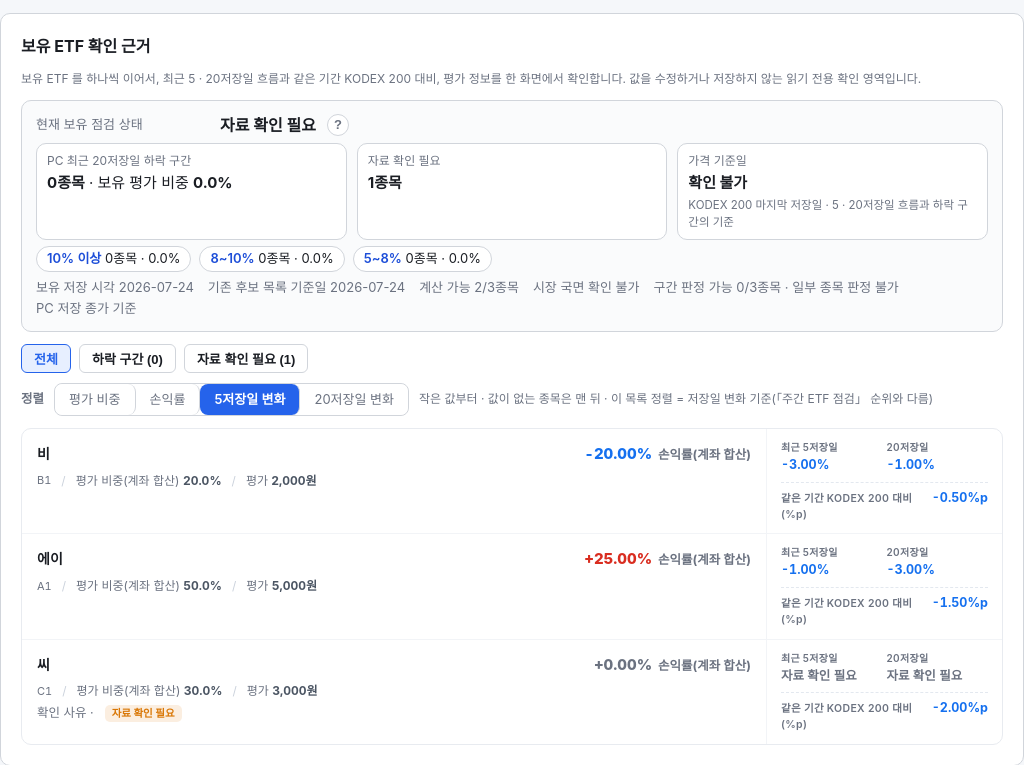
Test case: 확인 근거 — 사용자 선택 정렬 · 자료 확인 안내 · 전체 ETF NAV 이동 (POC5-UI-02) › 판정 Q54 — 상세에 [전체 ETF NAV·괴리율 보기] 이동 버튼이 없다(전체 표 = 「데이터 상태」) · NAV 묶음은 있다
This screenshot has width=1024, height=765.
Step 1. Click the button with aria-label "에이 상세 보기" → (618, 559), box [22,534,1002,639]
(page scrolled)
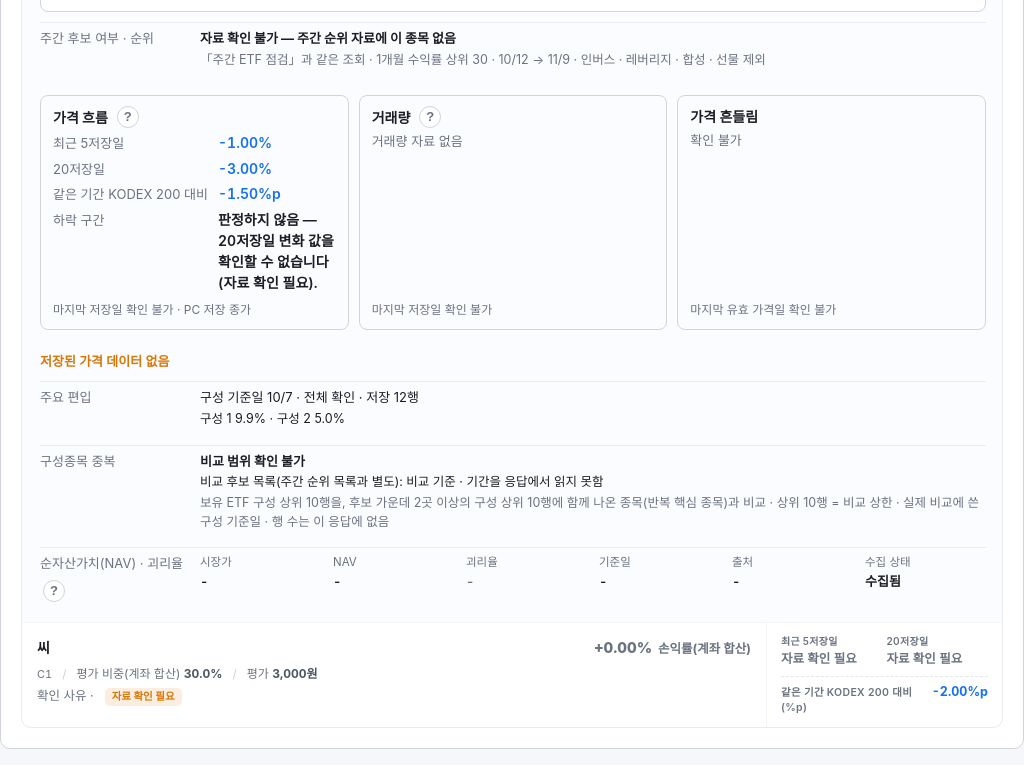
Result: the element with test id "hre-nav" is shown at [40,547,986,608]
